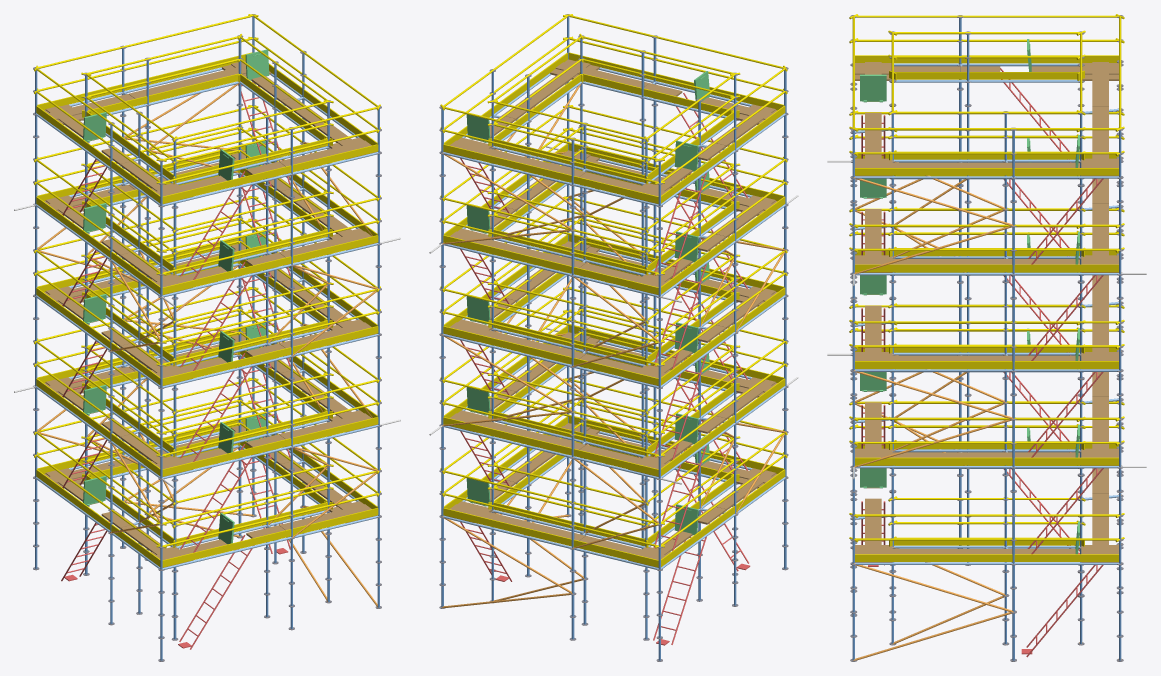
File: ex3_ushape.glb
The picture shows the model from 3 angles, left to right: view 1: azimuth 30°, elevation 25°; view 2: azimuth 150°, elevation 25°; view 3: azimuth 270°, elevation 25°; orthographic projection. The views are drawn at different scales.
Visible parts, largest first — view 1: Pole_FC_000, Pole_F__001, Pole_F__007, Pole_FC_002, Pole_BC_000, Pole_FC_006, Pole_BC_004, Pole_B__001, Pole_BC_002, Toe_F_F1_000, Toe_F_F3_000, Toe_F_F5_000 (+31 smaller); view 2: Pole_F__005, Pole_FC_006, Pole_B__005, Pole_FC_004, Pole_F__007, Pole_FC_000, Pole_B__001, Pole_BC_004, Pole_B__007, Toe_F_F5_004, Toe_F_F1_004, Toe_F_F3_004 (+46 smaller); view 3: Pole_F__003, Pole_FC_004, Pole_FC_002, Toe_F_F2_002, Toe_F_F4_002, Toe_F_F1_002, Toe_F_F3_002, Toe_F_F5_002, Pole_BC_004, Pole_B__003, Pole_BC_002, Toe_F_F5_006 (+42 smaller).
Boxes of the visible parts, x1=… form: Pole_FC_000: x1=160, y1=162, x2=162, y2=660; Pole_F__001: x1=290, y1=130, x2=292, y2=628; Pole_F__007: x1=110, y1=125, x2=112, y2=623; Pole_FC_002: x1=377, y1=109, x2=379, y2=607; Pole_BC_000: x1=173, y1=140, x2=176, y2=639; Pole_FC_006: x1=35, y1=70, x2=37, y2=568; Pole_BC_004: x1=238, y1=38, x2=241, y2=536; Pole_B__001: x1=266, y1=118, x2=268, y2=616; Pole_BC_002: x1=327, y1=103, x2=329, y2=601; Toe_F_F1_000: x1=162, y1=529, x2=291, y2=567; Toe_F_F3_000: x1=162, y1=347, x2=291, y2=385; Toe_F_F5_000: x1=162, y1=165, x2=291, y2=203; Pole_F__005: x1=571, y1=140, x2=574, y2=639; Pole_FC_006: x1=658, y1=162, x2=660, y2=660; Pole_B__005: x1=583, y1=125, x2=586, y2=624; Pole_FC_004: x1=441, y1=109, x2=443, y2=606; Pole_F__007: x1=734, y1=107, x2=736, y2=605; Pole_FC_000: x1=784, y1=70, x2=786, y2=568; Pole_B__001: x1=641, y1=53, x2=644, y2=548; Pole_BC_004: x1=491, y1=103, x2=493, y2=601; Pole_B__007: x1=698, y1=101, x2=700, y2=600; Toe_F_F5_004: x1=443, y1=144, x2=571, y2=182; Toe_F_F1_004: x1=443, y1=508, x2=571, y2=546; Toe_F_F3_004: x1=443, y1=326, x2=571, y2=364; Pole_F__003: x1=1012, y1=130, x2=1014, y2=660; Pole_FC_004: x1=1119, y1=131, x2=1121, y2=660; Pole_FC_002: x1=852, y1=131, x2=854, y2=660; Toe_F_F2_002: x1=855, y1=457, x2=1012, y2=465; Toe_F_F4_002: x1=855, y1=264, x2=1012, y2=272; Toe_F_F1_002: x1=855, y1=554, x2=1012, y2=561; Toe_F_F3_002: x1=855, y1=361, x2=1012, y2=368; Toe_F_F5_002: x1=855, y1=168, x2=1012, y2=175; Pole_BC_004: x1=1080, y1=114, x2=1082, y2=643; Pole_B__003: x1=1004, y1=114, x2=1006, y2=643; Pole_BC_002: x1=891, y1=114, x2=893, y2=643; Toe_F_F5_006: x1=961, y1=55, x2=1118, y2=63.
Size of the model in its own units: 6 by 11.05 by 6.
